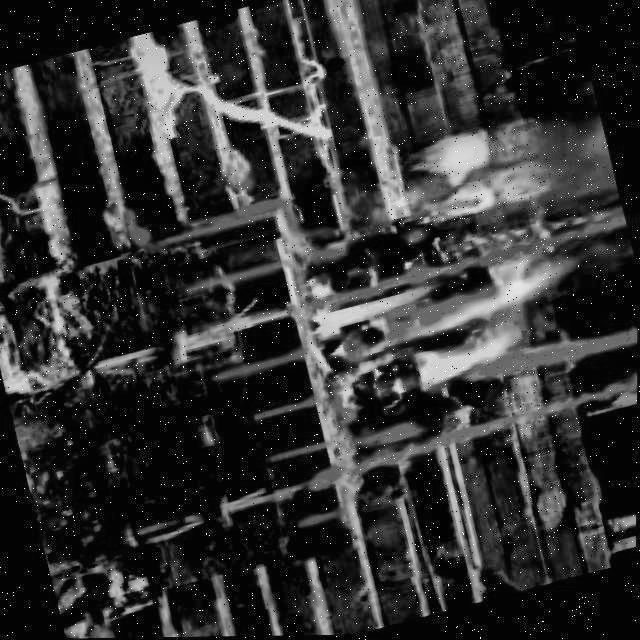Fire: (310, 248, 568, 413)
